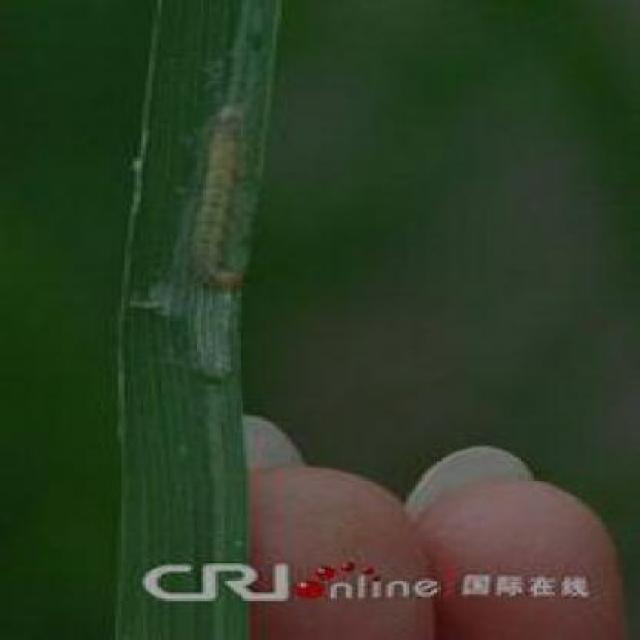leaf-folder: (177, 97, 334, 309)
